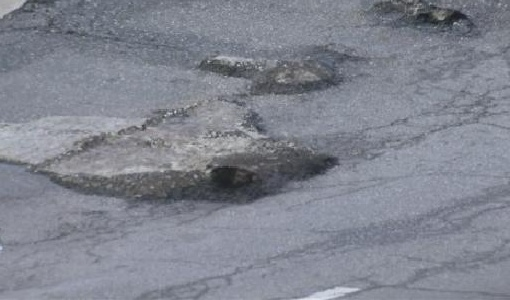pothole: (27, 99, 342, 209), (196, 53, 351, 99), (362, 1, 482, 41)
